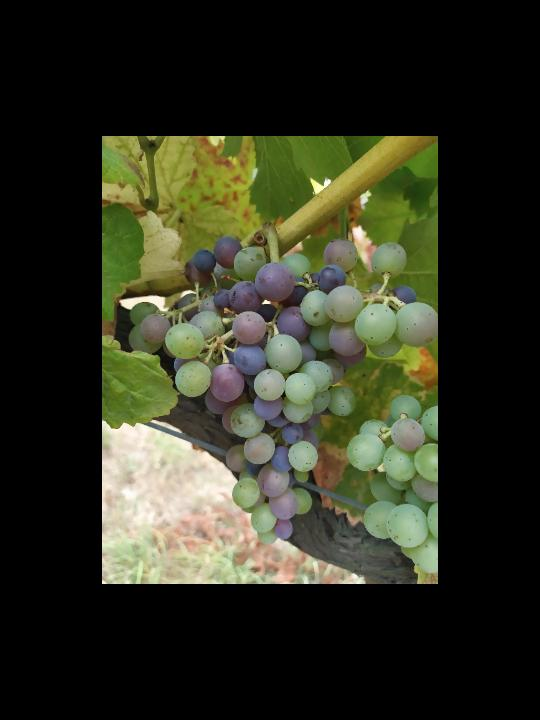grape: (129, 232, 438, 545)
